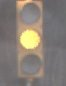Yellow: (12, 2, 46, 85)
